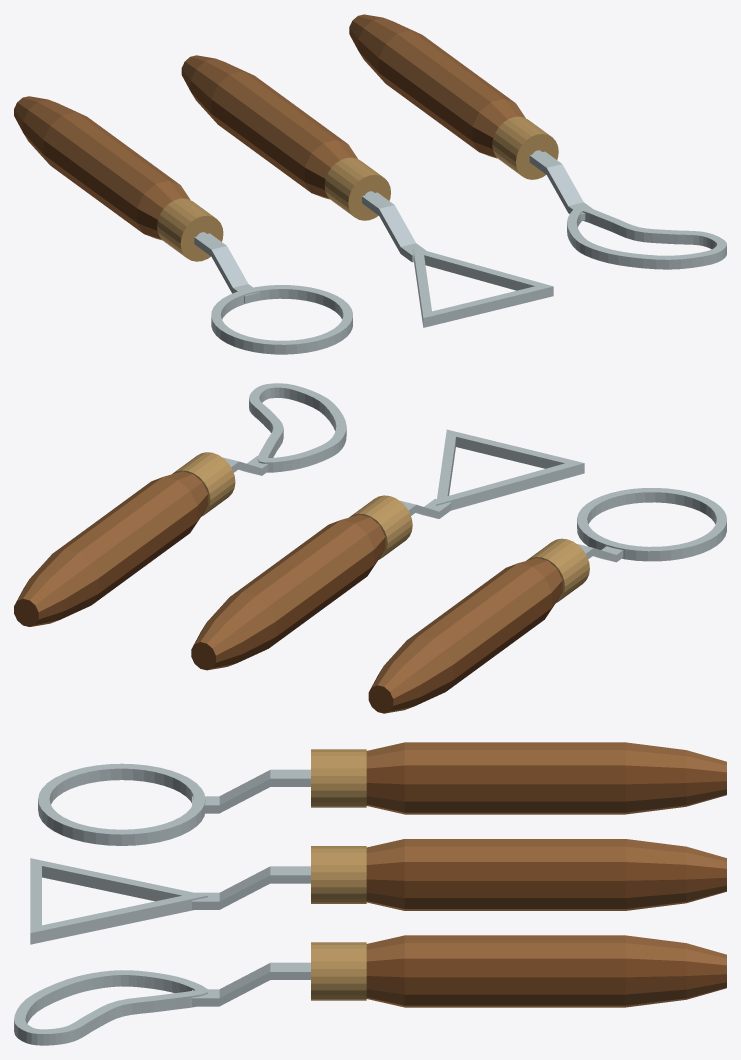
The picture shows the model from 3 angles, top to bottom: view 1: azimuth 30°, elevation 25°; view 2: azimuth 150°, elevation 25°; view 3: azimuth 270°, elevation 25°; orthographic projection. The views are drawn at different scales.
Visible parts, largest first — view 1: Tool_Curved_WalnutGrip, Tool_Triangle_WalnutGrip, Tool_Round_WalnutGrip, Tool_Curved_LoopBlade, Tool_Round_LoopBlade, Tool_Triangle_LoopBlade, Tool_Curved_Ferrule, Tool_Round_Ferrule, Tool_Triangle_Ferrule, Tool_Round_BentTang, Tool_Triangle_BentTang, Tool_Curved_BentTang; view 2: Tool_Round_WalnutGrip, Tool_Triangle_WalnutGrip, Tool_Curved_WalnutGrip, Tool_Round_LoopBlade, Tool_Triangle_LoopBlade, Tool_Curved_LoopBlade, Tool_Round_Ferrule, Tool_Curved_Ferrule, Tool_Triangle_Ferrule, Tool_Triangle_BentTang; view 3: Tool_Round_WalnutGrip, Tool_Curved_WalnutGrip, Tool_Triangle_WalnutGrip, Tool_Curved_LoopBlade, Tool_Round_LoopBlade, Tool_Triangle_LoopBlade, Tool_Curved_Ferrule, Tool_Round_Ferrule, Tool_Triangle_Ferrule, Tool_Triangle_BentTang, Tool_Curved_BentTang, Tool_Round_BentTang.
Part boxes in pixels (left/top/right/bottom): Tool_Curved_WalnutGrip: left=349, top=14, right=525, bottom=158; Tool_Triangle_WalnutGrip: left=181, top=55, right=357, bottom=199; Tool_Round_WalnutGrip: left=14, top=96, right=190, bottom=240; Tool_Curved_LoopBlade: left=567, top=206, right=726, bottom=269; Tool_Round_LoopBlade: left=211, top=285, right=352, bottom=354; Tool_Triangle_LoopBlade: left=413, top=247, right=553, bottom=327; Tool_Curved_Ferrule: left=492, top=116, right=558, bottom=179; Tool_Round_Ferrule: left=157, top=198, right=223, bottom=261; Tool_Triangle_Ferrule: left=324, top=157, right=390, bottom=220; Tool_Round_BentTang: left=194, top=232, right=260, bottom=303; Tool_Triangle_BentTang: left=362, top=191, right=426, bottom=262; Tool_Curved_BentTang: left=529, top=150, right=592, bottom=221; Tool_Round_WalnutGrip: left=368, top=558, right=562, bottom=713; Tool_Triangle_WalnutGrip: left=191, top=514, right=385, bottom=670; Tool_Curved_WalnutGrip: left=14, top=471, right=207, bottom=626; Tool_Round_LoopBlade: left=577, top=488, right=726, bottom=561; Tool_Triangle_LoopBlade: left=436, top=429, right=584, bottom=510; Tool_Curved_LoopBlade: left=249, top=383, right=346, bottom=472; Tool_Round_Ferrule: left=526, top=538, right=589, bottom=602; Tool_Curved_Ferrule: left=172, top=452, right=235, bottom=516; Tool_Triangle_Ferrule: left=349, top=495, right=412, bottom=559; Tool_Triangle_BentTang: left=400, top=499, right=451, bottom=518; Tool_Round_WalnutGrip: left=366, top=742, right=726, bottom=814; Tool_Curved_WalnutGrip: left=366, top=935, right=726, bottom=1007; Tool_Triangle_WalnutGrip: left=366, top=839, right=726, bottom=910; Tool_Curved_LoopBlade: left=14, top=970, right=207, bottom=1045; Tool_Round_LoopBlade: left=38, top=763, right=205, bottom=845; Tool_Triangle_LoopBlade: left=30, top=858, right=207, bottom=944; Tool_Curved_Ferrule: left=311, top=942, right=366, bottom=1000; Tool_Round_Ferrule: left=311, top=749, right=366, bottom=807; Tool_Triangle_Ferrule: left=311, top=846, right=366, bottom=903; Tool_Triangle_BentTang: left=192, top=866, right=310, bottom=909; Tool_Curved_BentTang: left=192, top=962, right=310, bottom=1006; Tool_Round_BentTang: left=192, top=769, right=310, bottom=813.
Size of the model in its own units: 0.2521 by 0.028 by 0.281.
